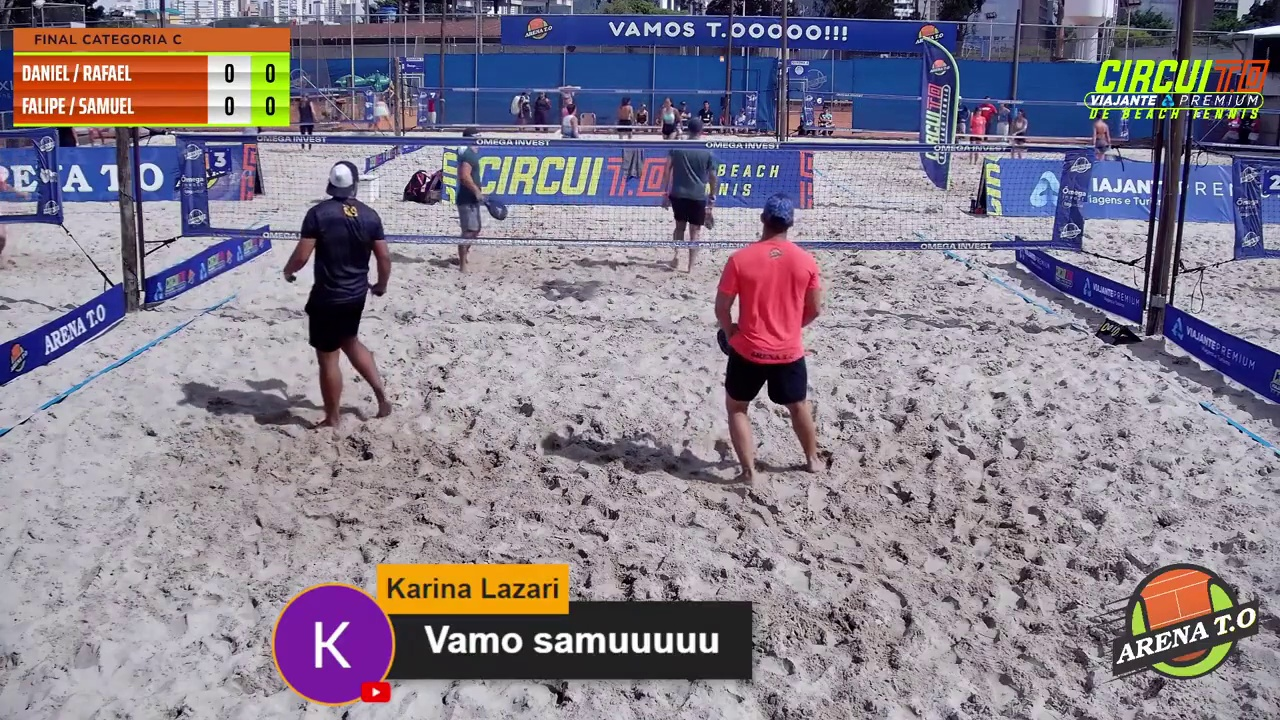court_line: (478, 0, 662, 438), (641, 0, 773, 425)
